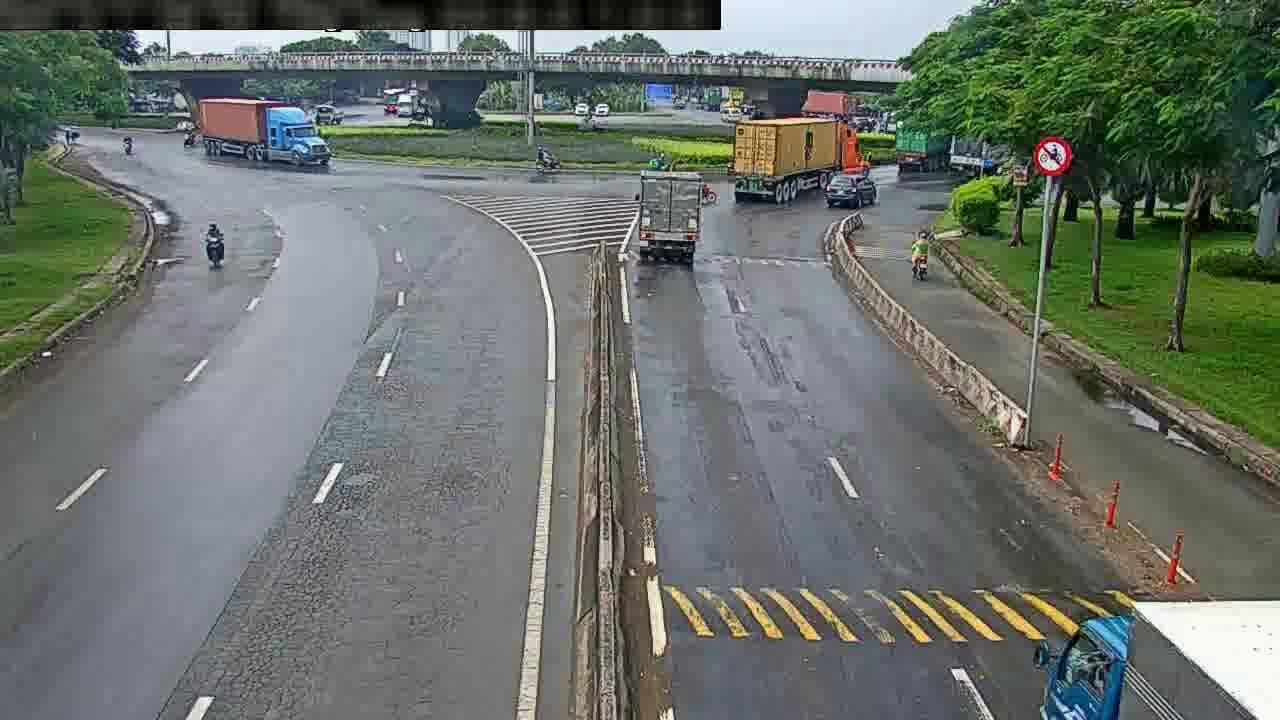8: (730, 118, 870, 201), (194, 95, 336, 169), (632, 168, 705, 269)
container: (824, 168, 885, 207)
motorbike: (204, 217, 227, 275), (910, 229, 934, 281), (533, 147, 564, 175)
